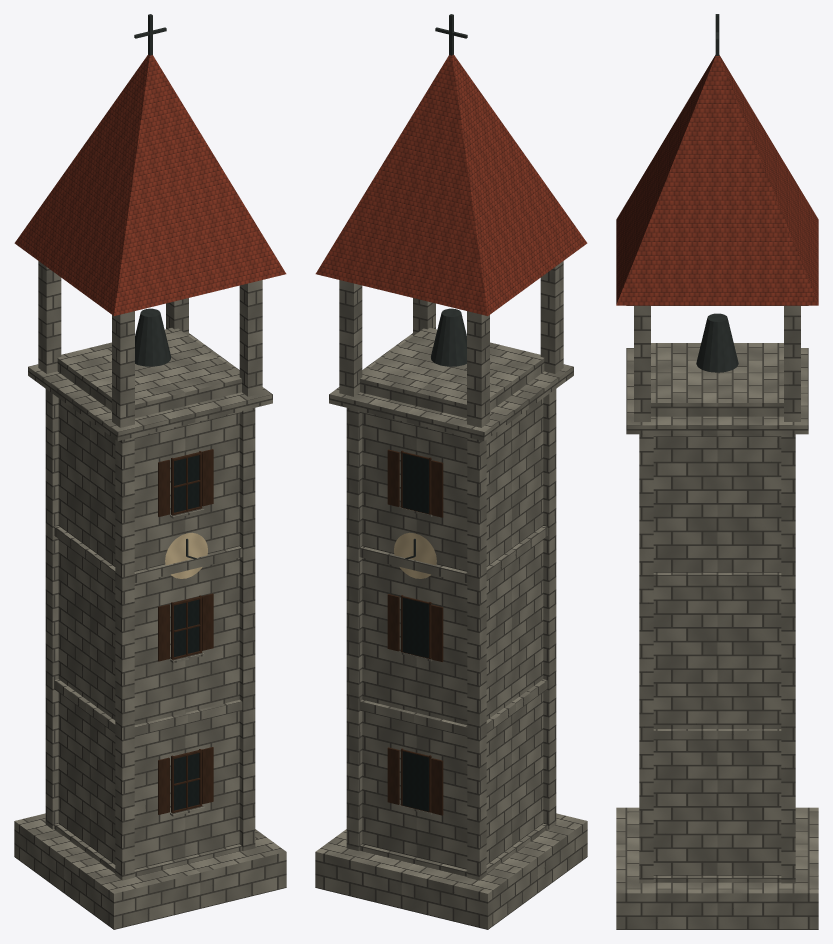
File: SG_Belltower_LOD0.fbx
3 renders of one model, left to right at view 1: azimuth 30°, elevation 25°; view 2: azimuth 150°, elevation 25°; view 3: azimuth 270°, elevation 25°, orthographic.
Parts seen in each view (by area): view 1: SG_Belltower_Detail0; view 2: SG_Belltower_Detail0; view 3: SG_Belltower_Detail0.
Part boxes in pixels (<box>): SG_Belltower_Detail0: <box>14,14,286,929</box>; SG_Belltower_Detail0: <box>315,14,587,929</box>; SG_Belltower_Detail0: <box>616,14,818,929</box>.
Bounding box in the file's own units: 20 × 95 × 20.
